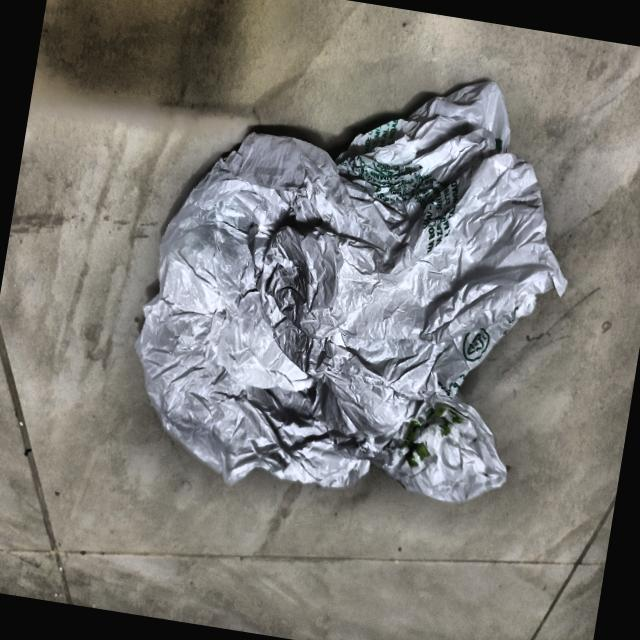plastic bag: (106, 16, 606, 546)
